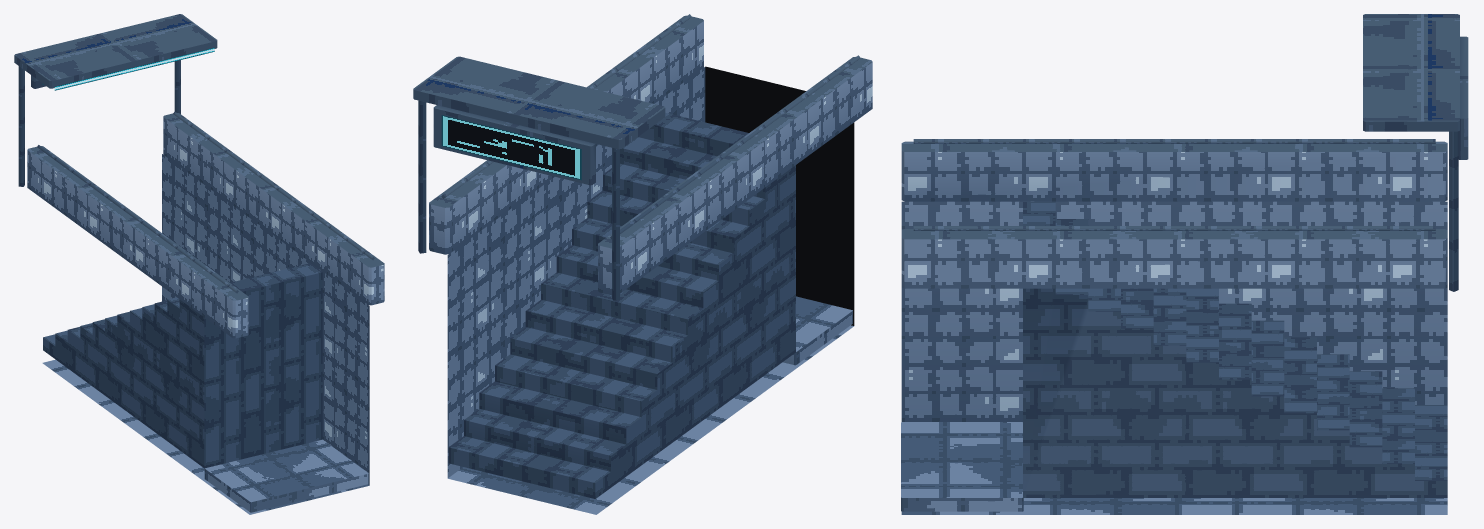
Rendered from cystreet.metro.glb.
The picture shows the model from 3 angles, left to right: view 1: azimuth 30°, elevation 25°; view 2: azimuth 150°, elevation 25°; view 3: azimuth 270°, elevation 25°; orthographic projection. The views are drawn at different scales.
Parts seen in each view (by area): view 1: kit_stairs, kit_canopy, kit_shell_well, kit_card_sign; view 2: kit_stairs, kit_canopy, kit_shell_well, kit_card_sign; view 3: kit_stairs, kit_canopy, kit_shell_well.
Part boxes in pixels (x1,y1,x2,y2): kit_stairs: (43, 263, 368, 512); kit_canopy: (14, 14, 384, 338); kit_shell_well: (42, 154, 369, 514); kit_card_sign: (42, 47, 214, 90); kit_stairs: (448, 112, 852, 498); kit_canopy: (413, 14, 872, 300); kit_shell_well: (447, 66, 854, 514); kit_card_sign: (441, 115, 581, 180); kit_stairs: (901, 202, 1447, 511); kit_canopy: (901, 14, 1468, 291); kit_shell_well: (901, 201, 1447, 514).
Size of the model in its own units: 4.2 by 7.43 by 9.38.
10 materials, 10 textured.
